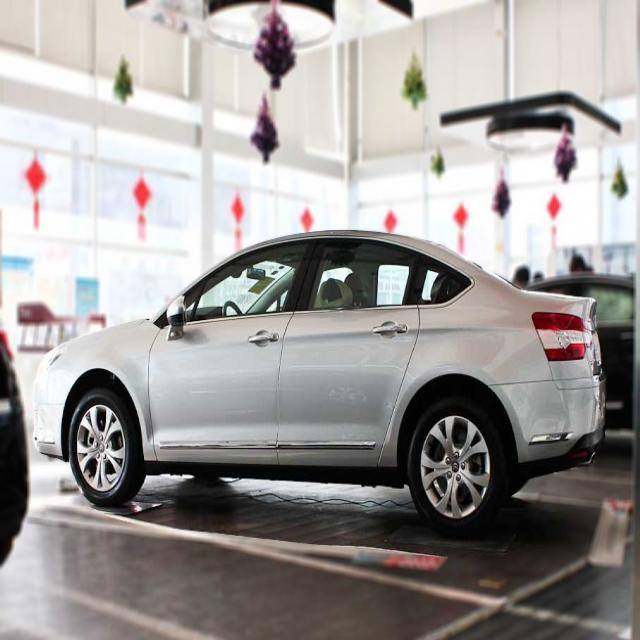back_left_side_light: (528, 308, 588, 364)
door: (276, 248, 426, 462)
front_bumper: (32, 382, 67, 460)
front_left_side_door: (147, 234, 320, 470)
front_left_side_light: (36, 342, 67, 382)
front_left_side_mirror: (166, 293, 189, 342)
rear_bumper: (480, 368, 609, 475)
wheel: (409, 394, 500, 532), (69, 389, 147, 505)
